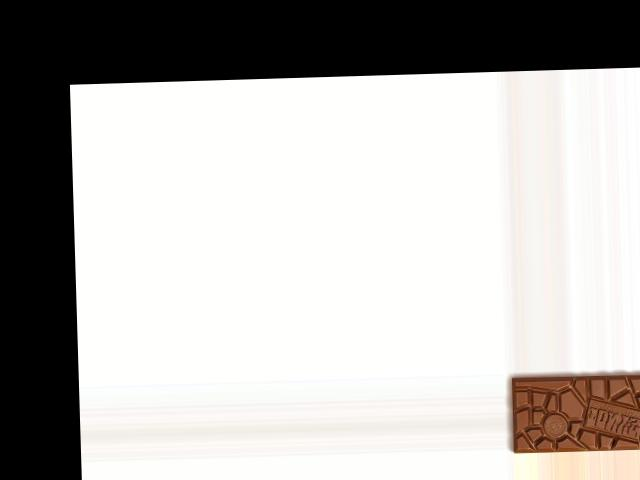chocolate: (509, 370, 640, 453)
